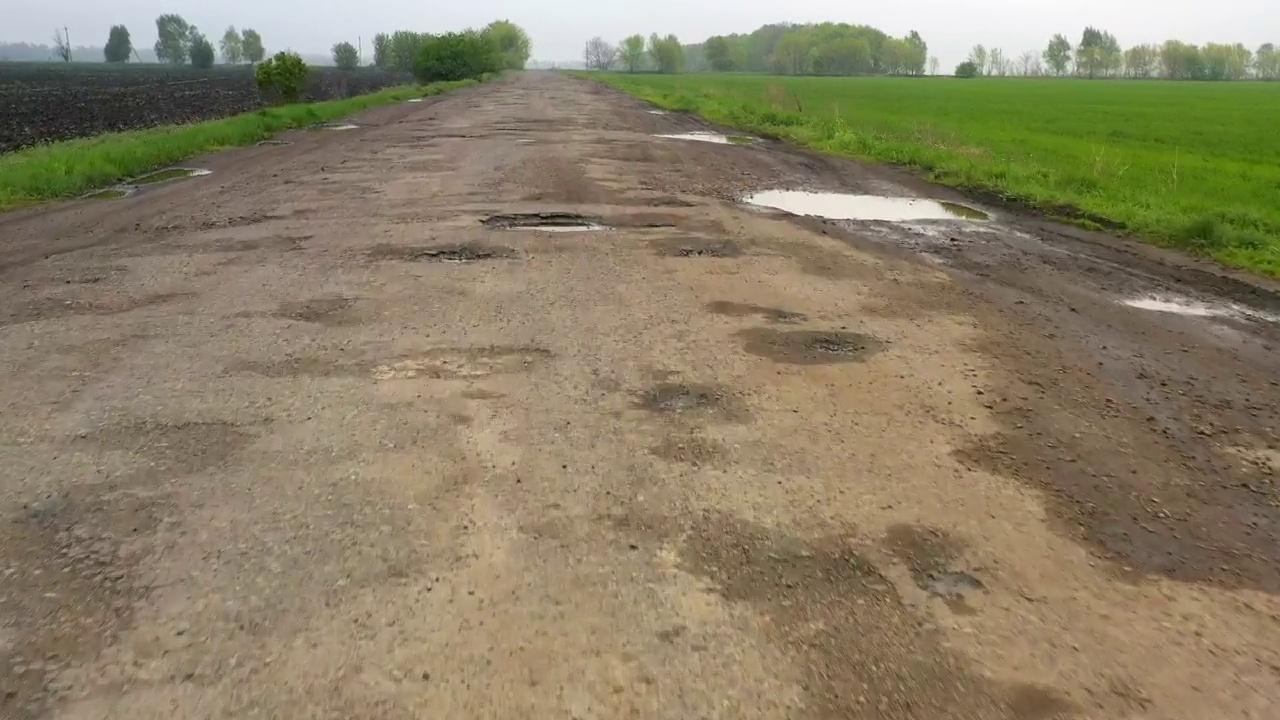bache: (745, 189, 988, 219), (371, 347, 549, 380), (738, 328, 880, 363), (635, 382, 746, 421), (370, 243, 510, 262), (481, 212, 605, 231), (663, 240, 742, 257), (648, 197, 695, 206)
